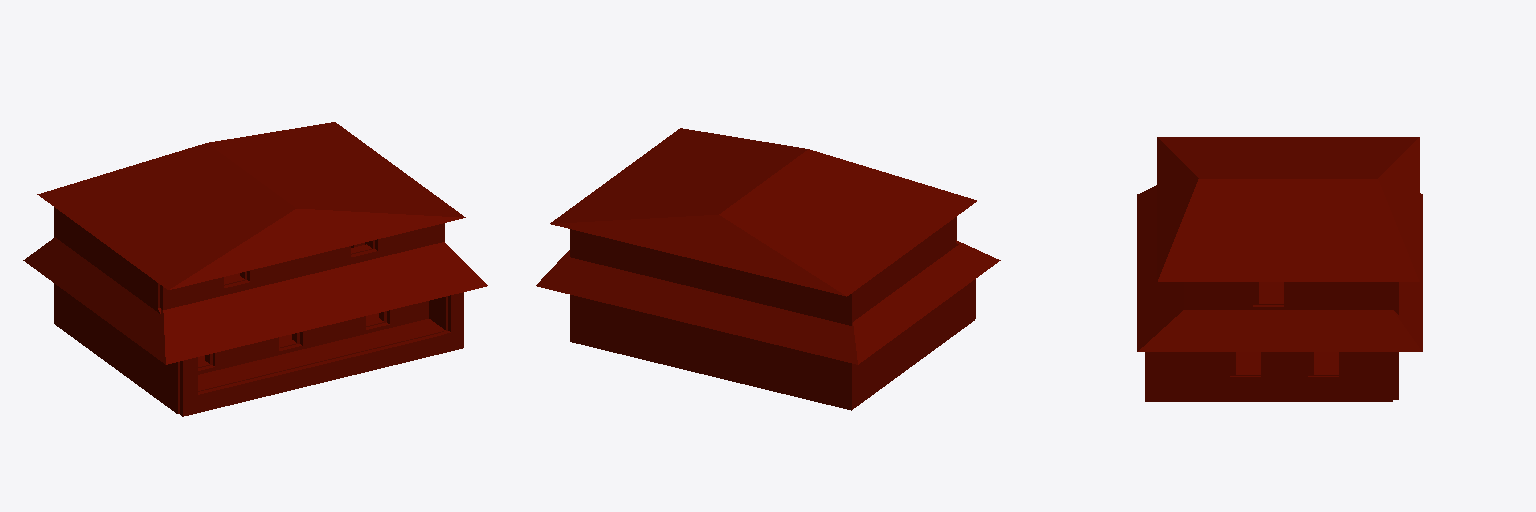
The model's file is house2.obj.
3 views of the same model, side by side, from view 1: azimuth 30°, elevation 25°; view 2: azimuth 150°, elevation 25°; view 3: azimuth 270°, elevation 25° (orthographic).
Parts seen in each view (by area): view 1: Structure_village_Cube; view 2: Structure_village_Cube; view 3: Structure_village_Cube.
Part boxes in pixels (x1,y1,x2,y2): Structure_village_Cube: (23, 122, 487, 416); Structure_village_Cube: (536, 128, 1000, 410); Structure_village_Cube: (1137, 137, 1422, 401).
Size of the model in its own units: 48.23 by 22.04 by 36.9.